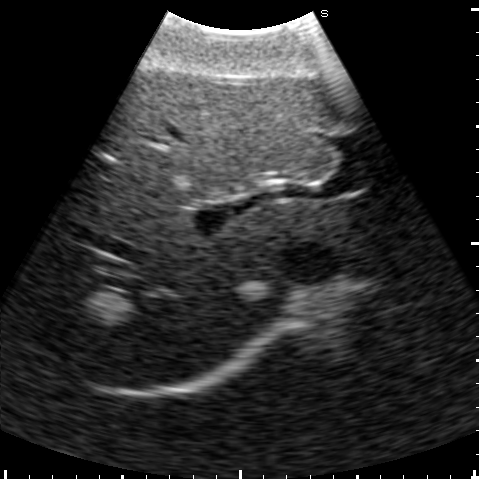IVC: (282, 245, 335, 281)
S4: (91, 73, 362, 197)
Tumor: (89, 293, 130, 324), (238, 282, 266, 300), (172, 177, 189, 188)
